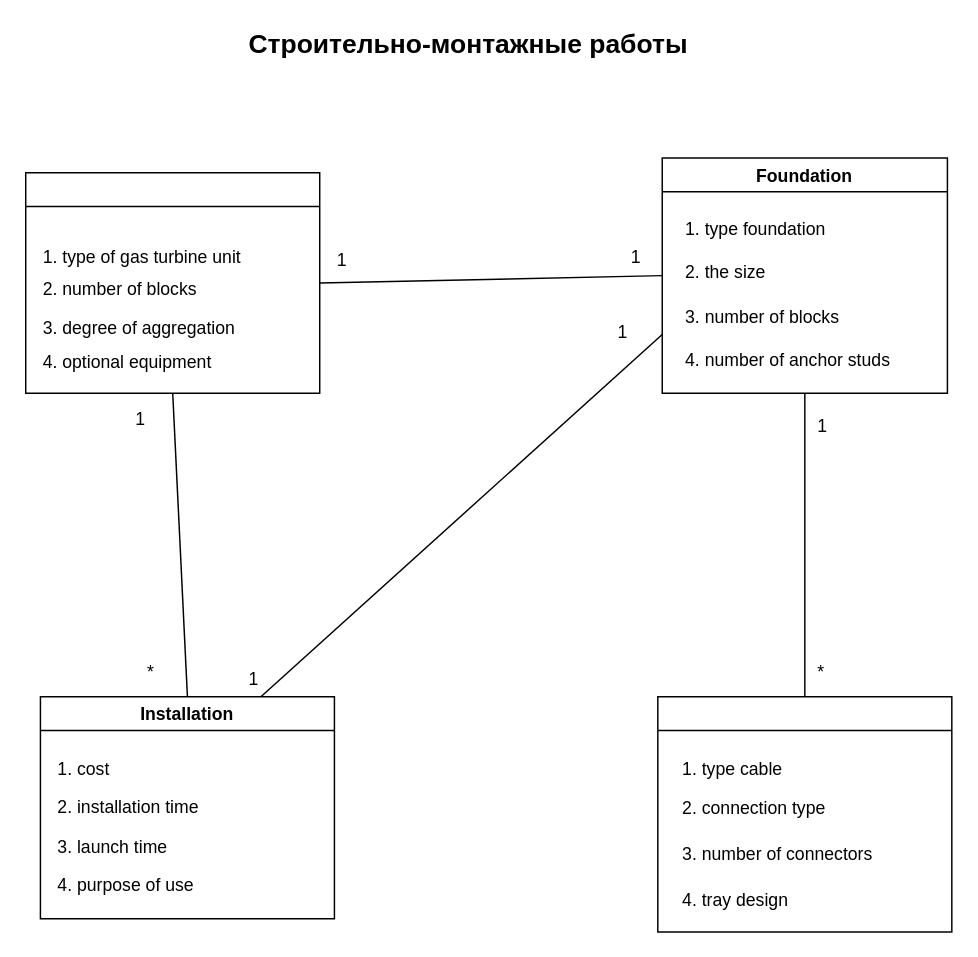
Image size: 978x957. Some labels were removed from this diagram. Each missing label, with the box of its shape:
GTU: (24, 171, 320, 393)
Сable: (656, 695, 952, 932)
